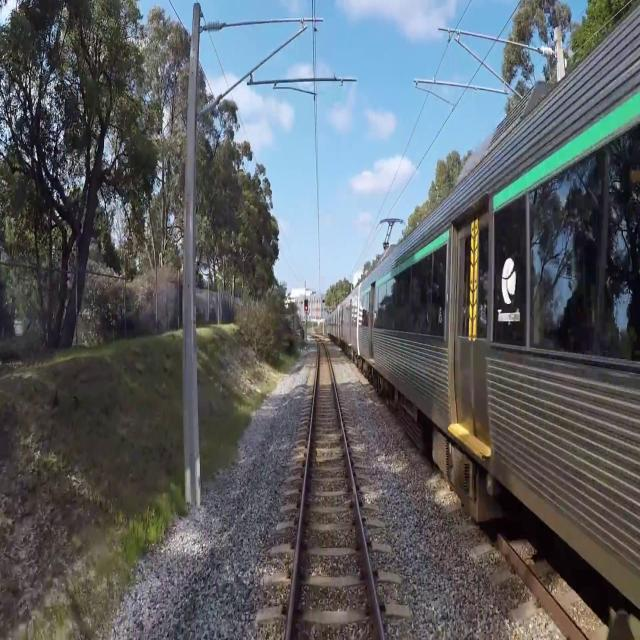rail-track: (290, 341, 380, 639)
